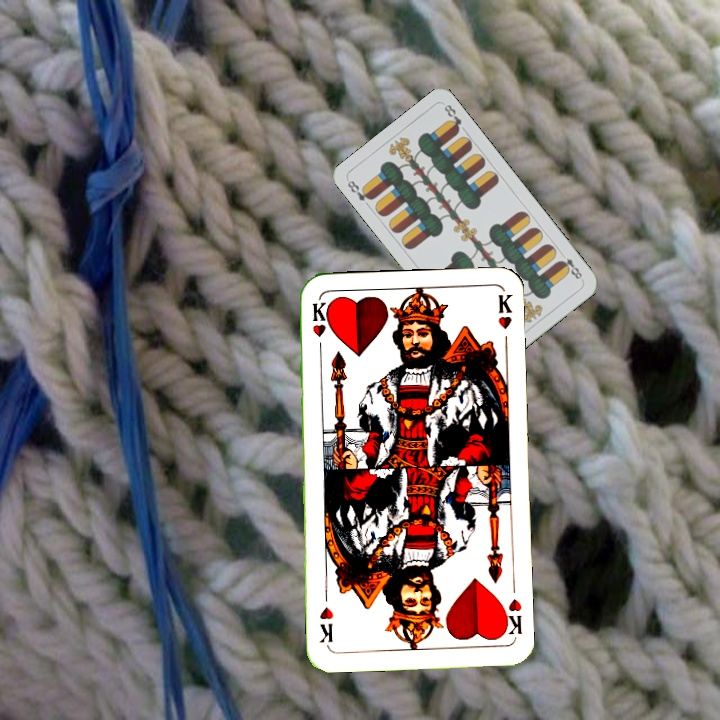E8: (343, 176, 376, 204), (555, 254, 585, 283)
HK: (308, 298, 330, 356), (498, 594, 525, 638)
